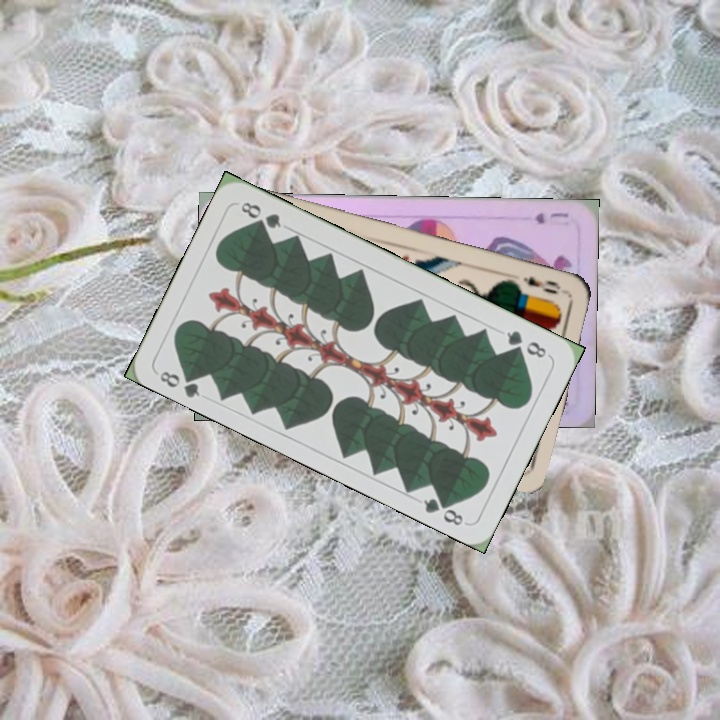EO: (519, 271, 564, 297)
G8: (155, 365, 203, 400), (502, 326, 549, 361)
SU: (530, 208, 571, 226)
